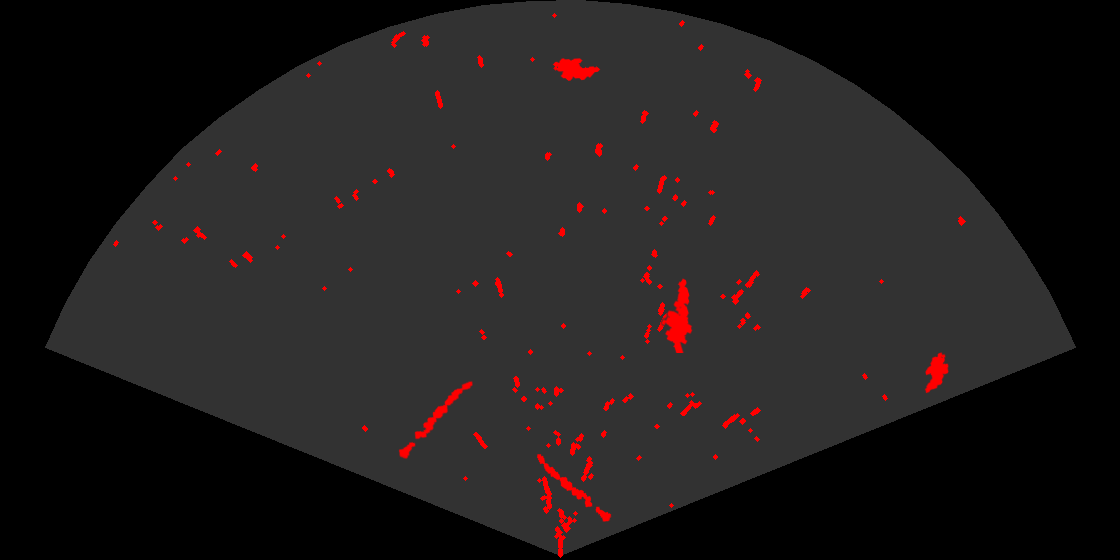AUV: (551, 57, 602, 82), (923, 351, 950, 395)
chain: (397, 379, 474, 461), (535, 452, 613, 523)
frogman: (660, 277, 694, 353)
